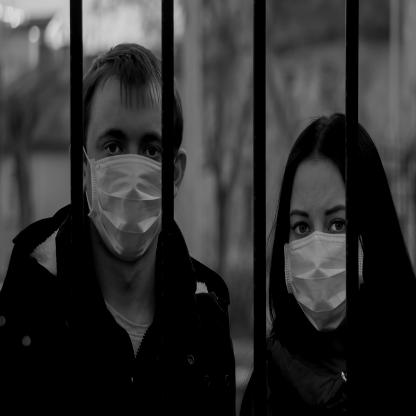dress: (0, 204, 232, 416), (80, 141, 178, 252), (283, 229, 364, 335)
